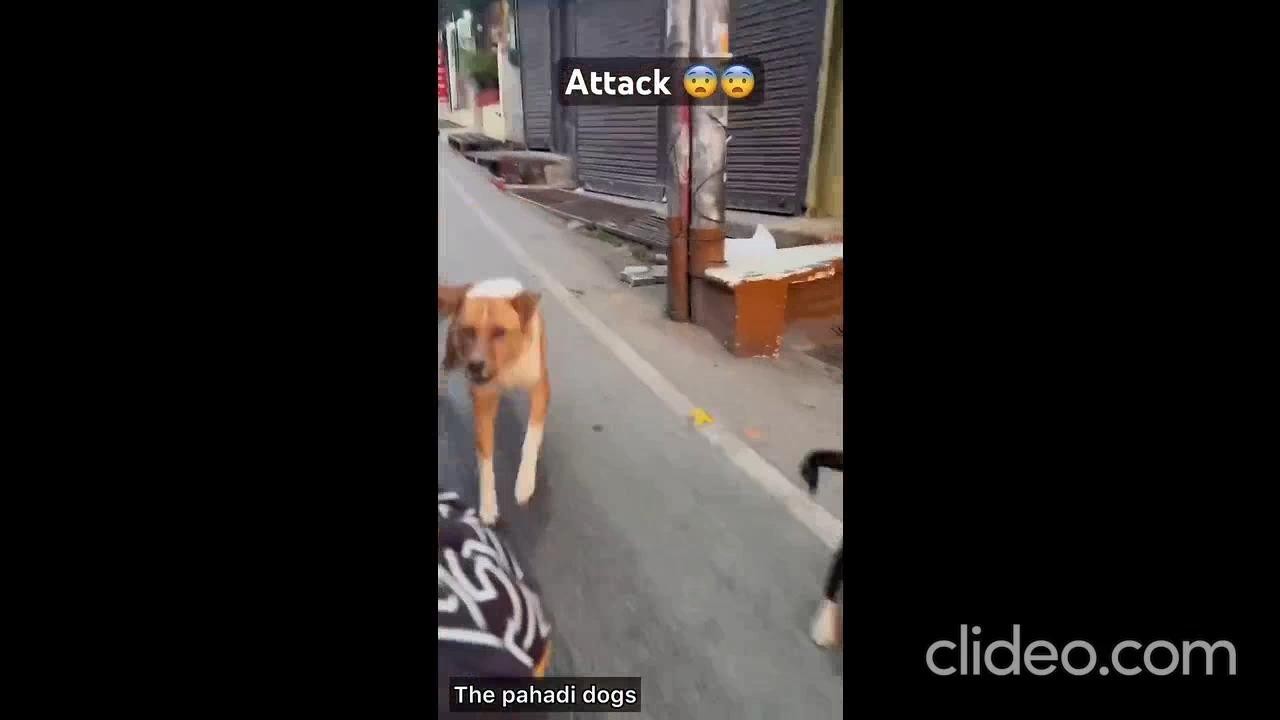dog: (436, 272, 553, 511)
